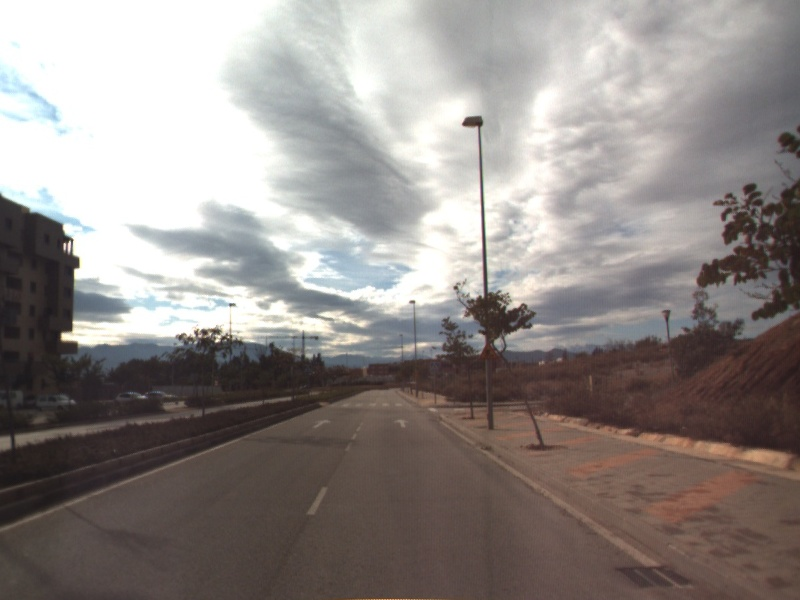STRAIGHT: (310, 417, 334, 430), (391, 417, 411, 429)
